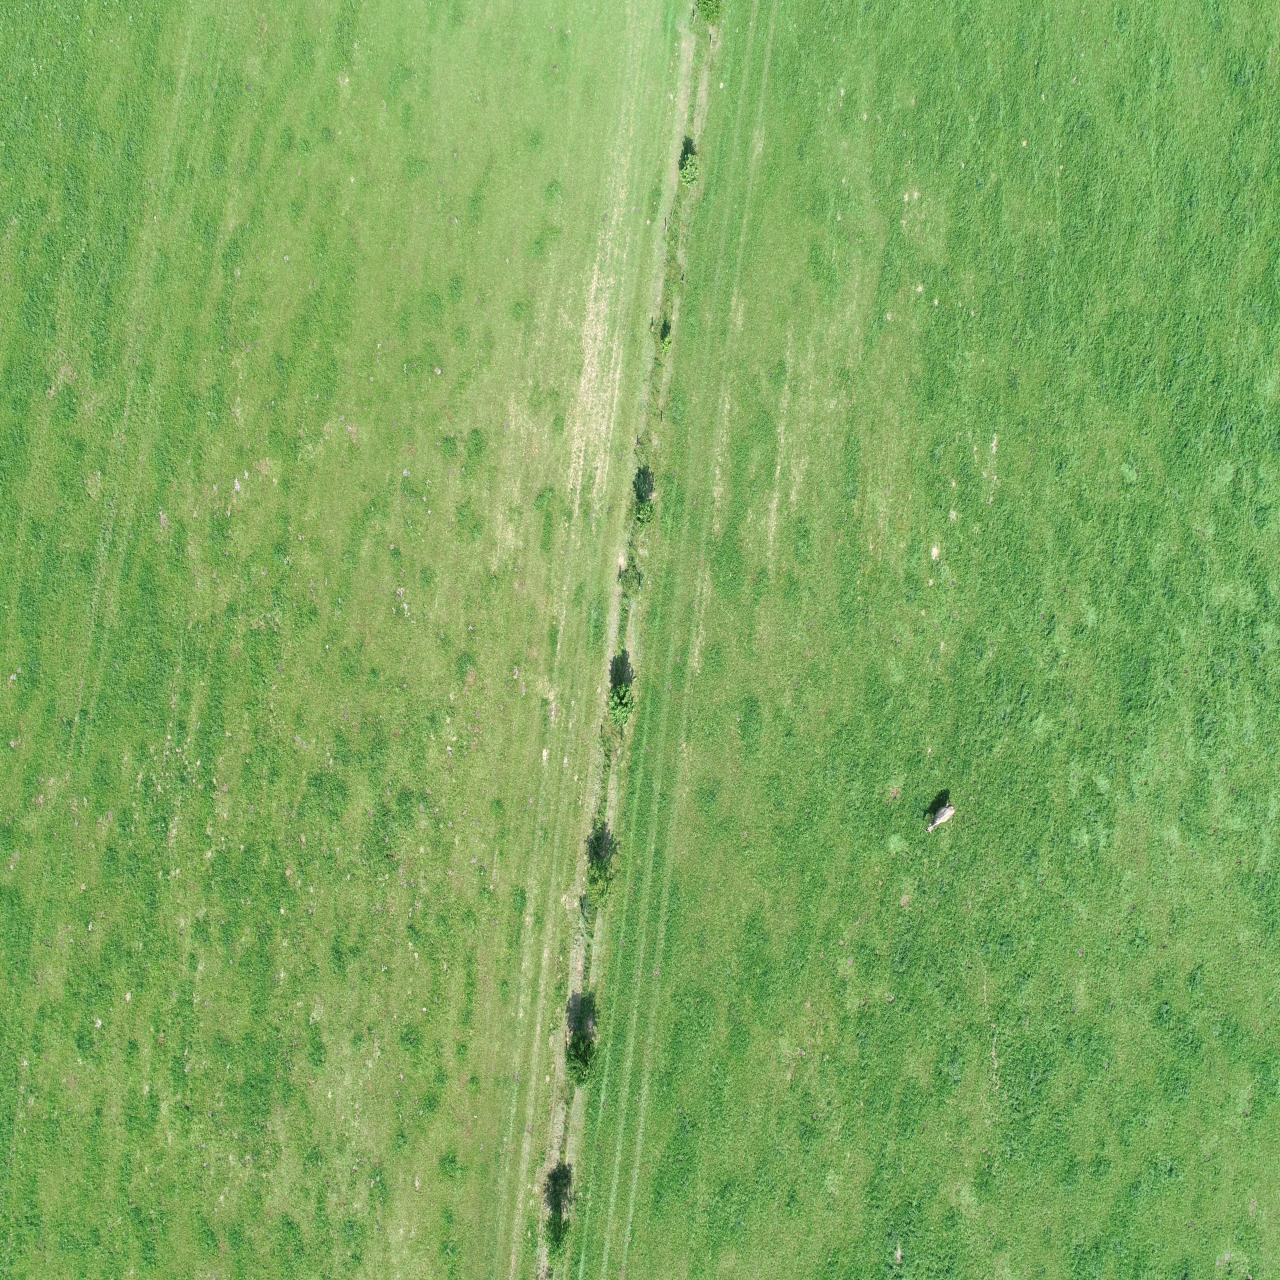cow: (924, 804, 958, 835)
